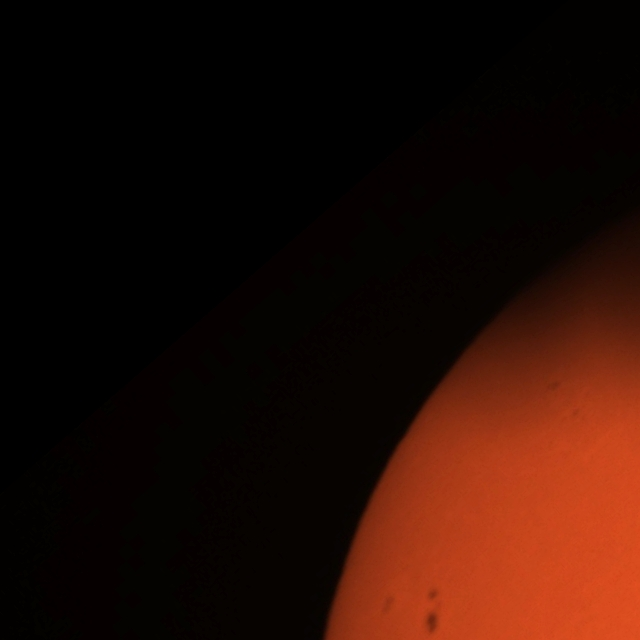sunspot: (422, 602, 440, 638), (425, 586, 441, 606)
